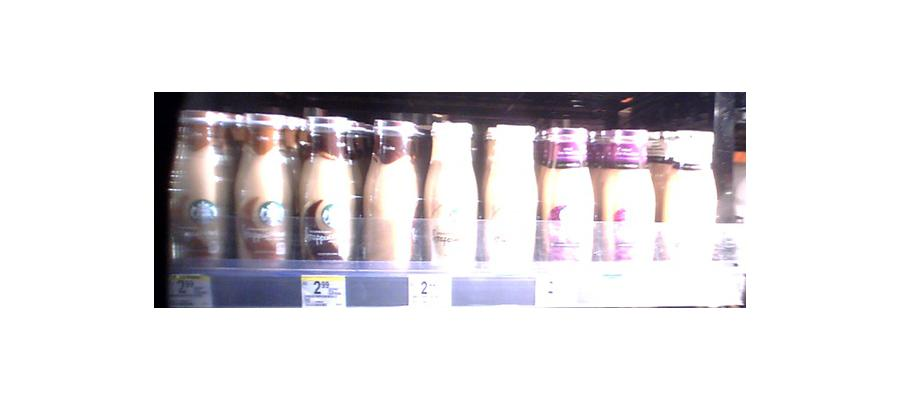bottle: (166, 109, 231, 273), (358, 116, 422, 270), (295, 114, 359, 267), (233, 121, 297, 265), (659, 139, 721, 283), (421, 121, 478, 276), (537, 124, 596, 271), (481, 123, 538, 273), (600, 141, 656, 272)
